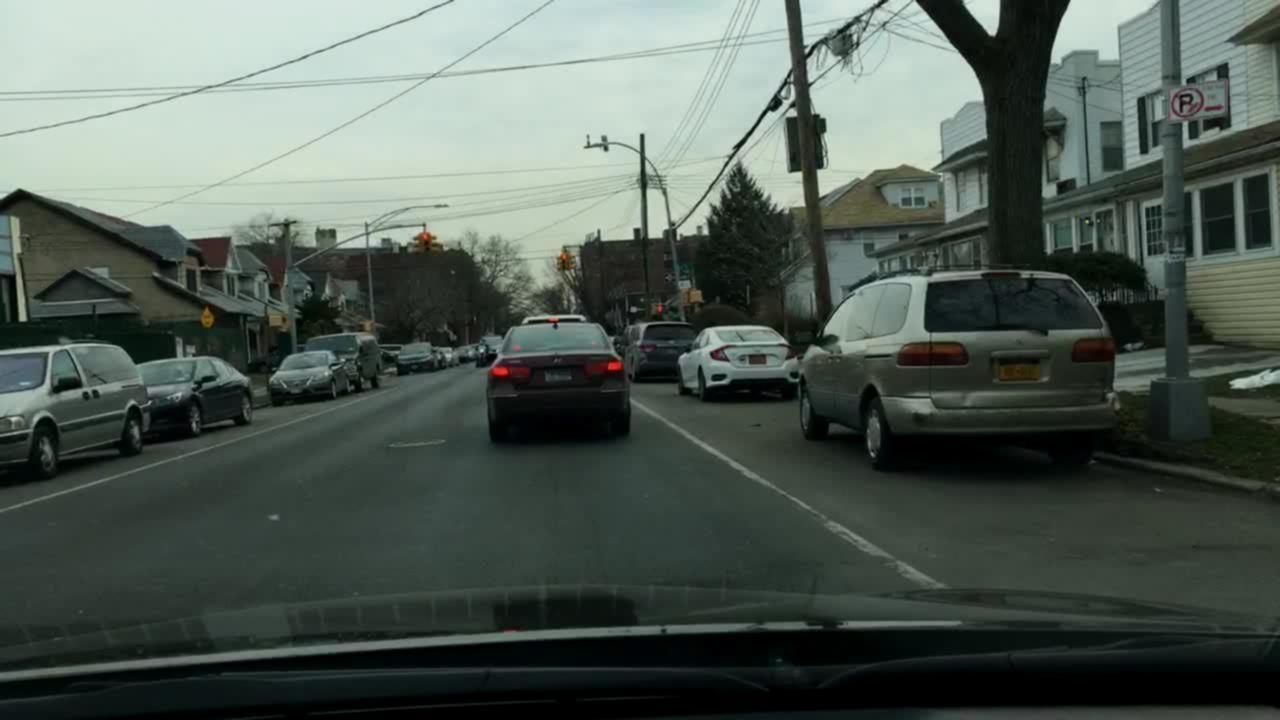Hyundai: (546, 355, 566, 366)
